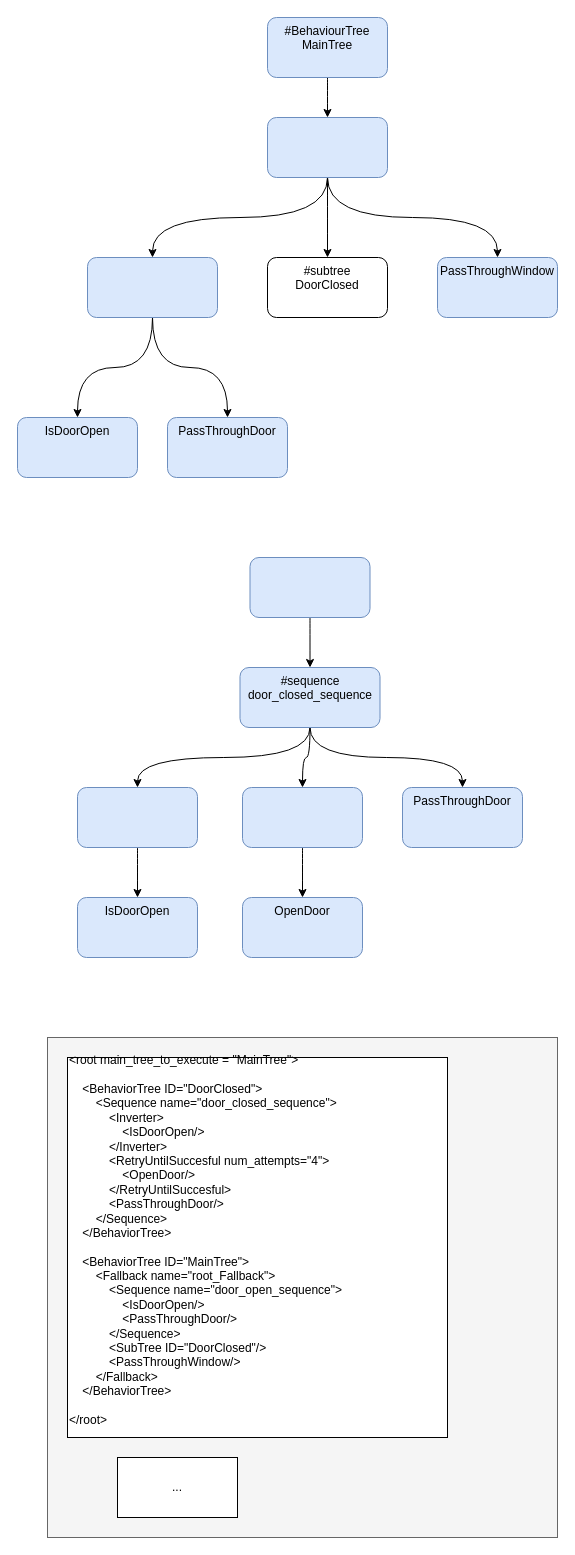
This 575x1555 diagram has some shape labels left out. The shapes that lost their labels are listed below. From the top down, each one's centre as x and y in pixels, then its label:
pixel 327 147: #fallback root_Fallback
pixel 152 287: #sequence door_open_sequence
pixel 309 587: #BehaviorTree
pixel 137 817: Inverter
pixel 302 817: RetryUntilSuccessful num_attempts="4"
